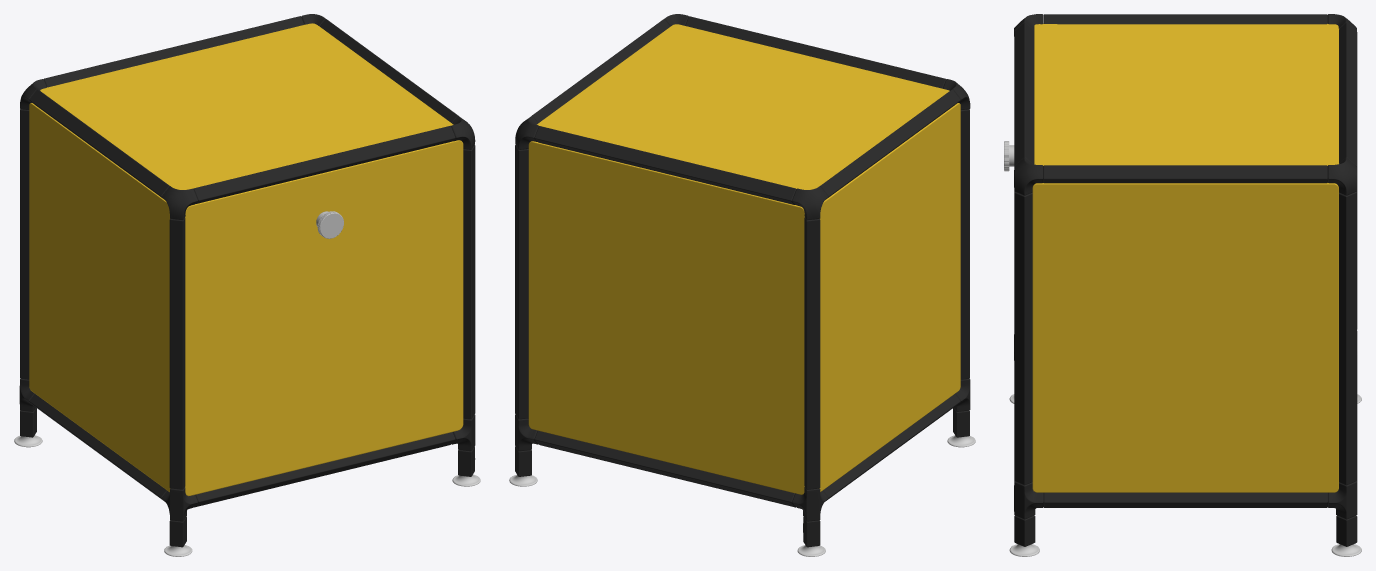
3 renders of one model, left to right at view 1: azimuth 30°, elevation 25°; view 2: azimuth 150°, elevation 25°; view 3: azimuth 270°, elevation 25°, orthographic. The views are drawn at different scales.
Visible parts, largest first — view 1: 420x374x420; view 2: 420x374x420; view 3: 420x374x420.
Boxes of the visible parts, bbox=[...] form: 420x374x420: bbox=[14, 14, 480, 556]; 420x374x420: bbox=[509, 14, 975, 556]; 420x374x420: bbox=[1004, 14, 1361, 556].
Bounding box in the file's own units: 0.5099 × 0.5593 × 0.4706.
